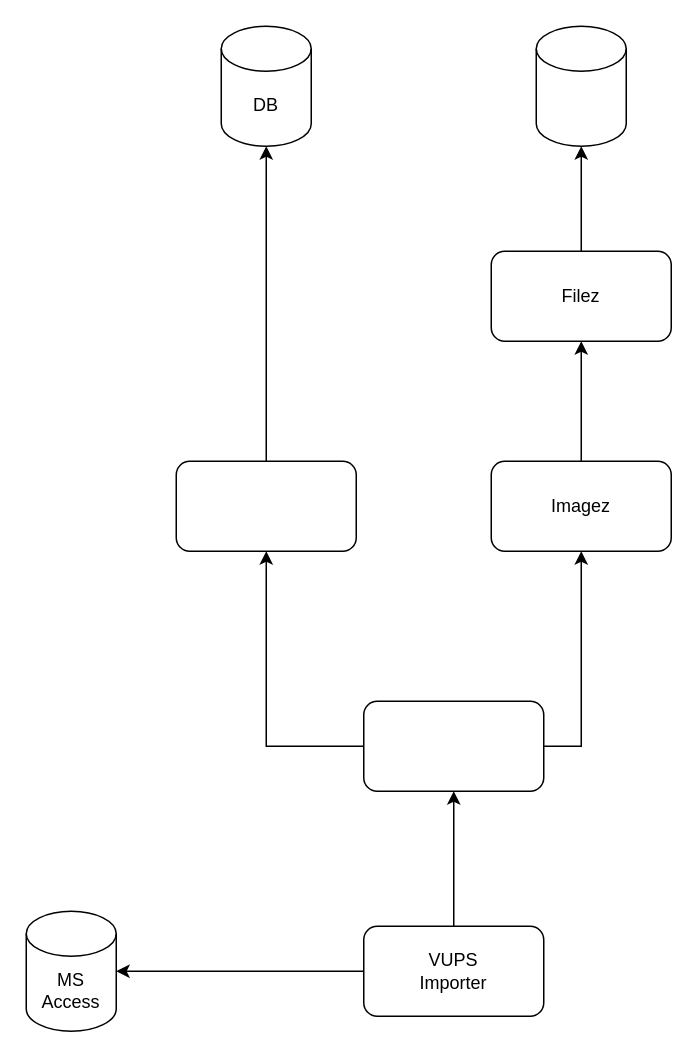
Image size: 698x1058. Some labels were removed from this diagram. The shapes that lost their labels are listed below. From the top down, each one's centre as x and y in pixels, then its label:
point 580,85: FS
point 265,505: Documentz
point 453,745: Okarina
